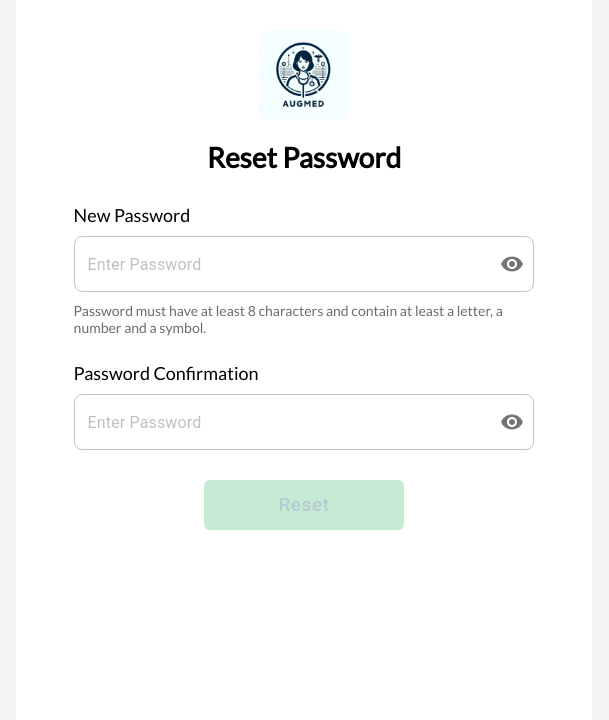
Test case: ResetPasswordPage › validate password and confirm password should be the same
Type "123" into the password field with test id "new-password-input" at point(279, 264), box [74,236,484,292]
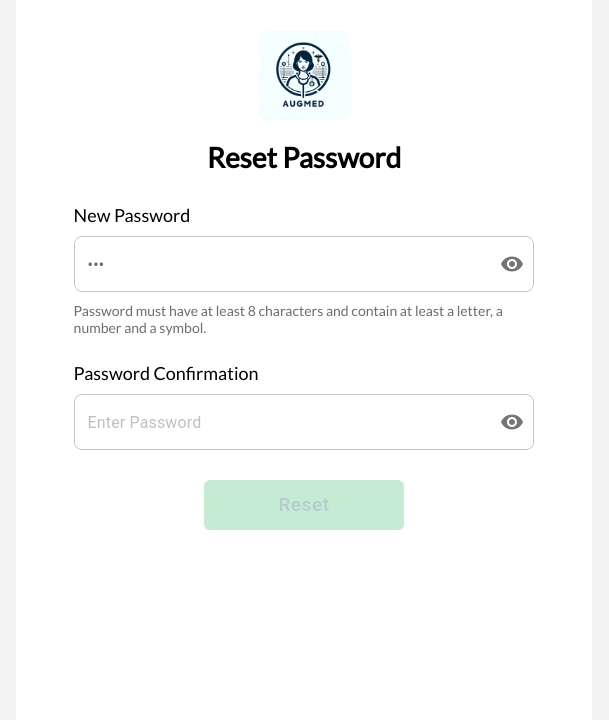
Type "1234" into the password field with test id "confirm-password-input" at point(279, 422), box [74,394,484,450]
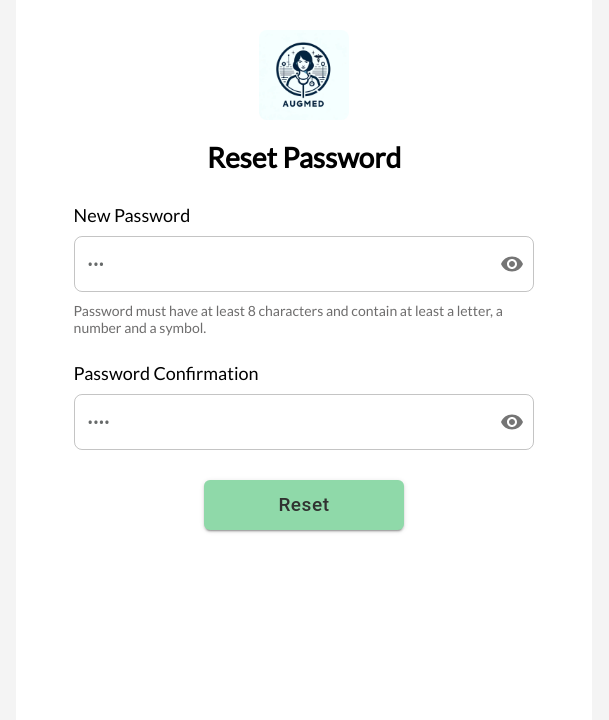
Click the button with test id "submit-button" at point(304, 505), box [204,480,404,530]
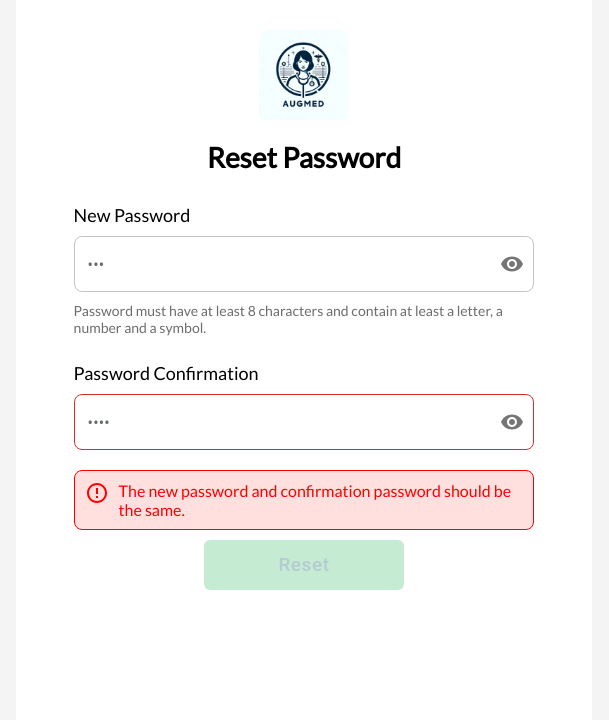
Check: the text "The new password and confirmation password should be the same." is shown, box [119,481,523,519]
